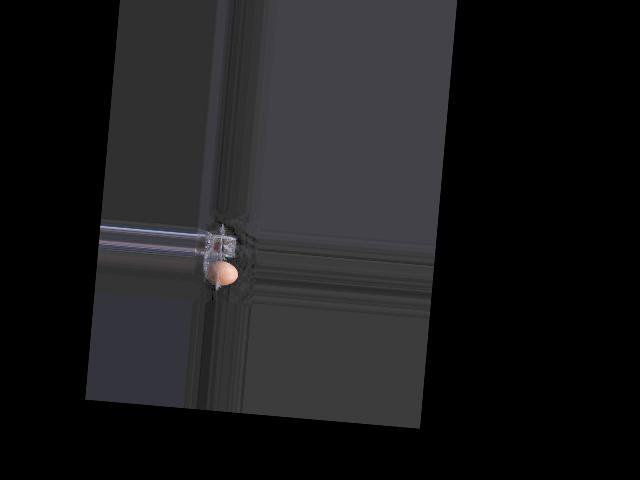egg: (205, 260, 238, 287)
